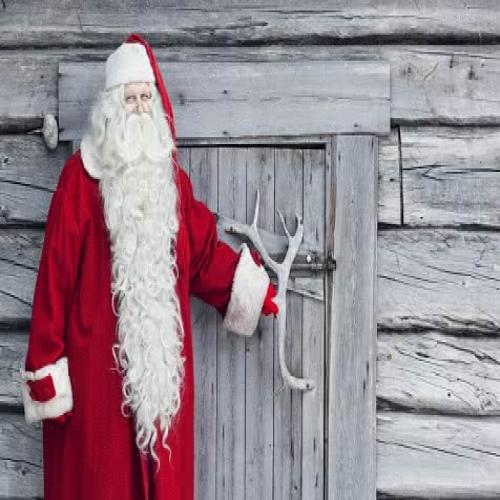Santa: (23, 31, 274, 500)
